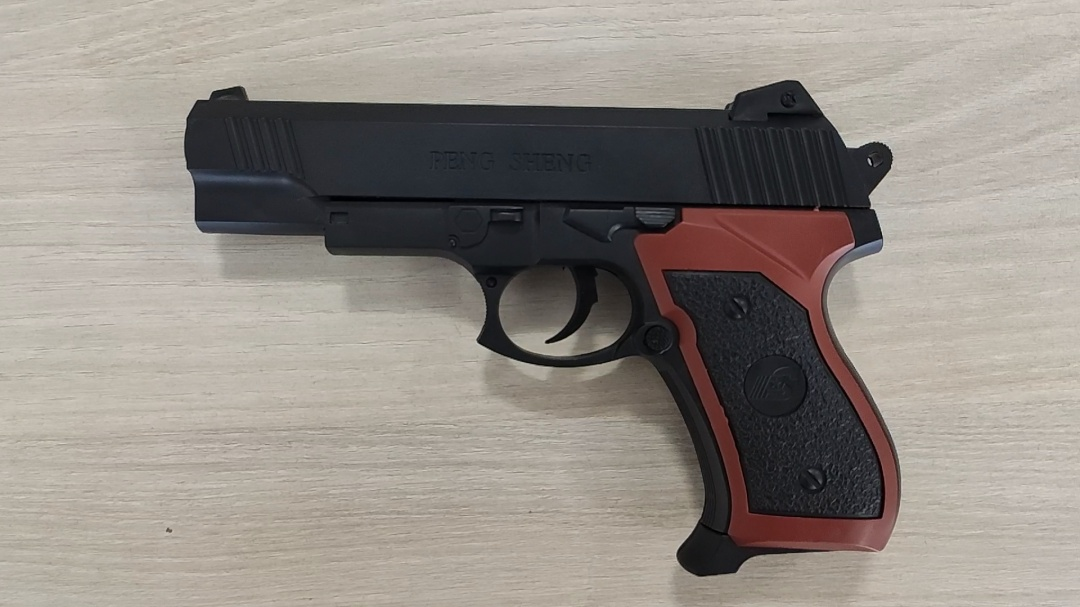gun: (451, 230, 600, 320)
